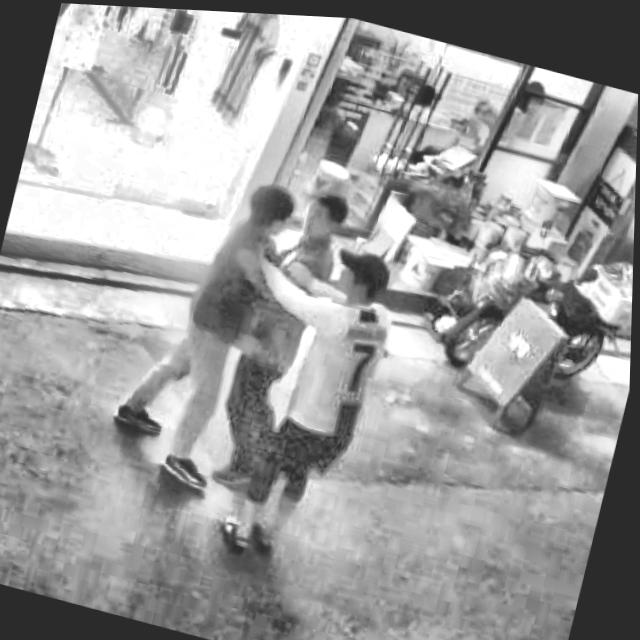robbery: (105, 173, 402, 571)
